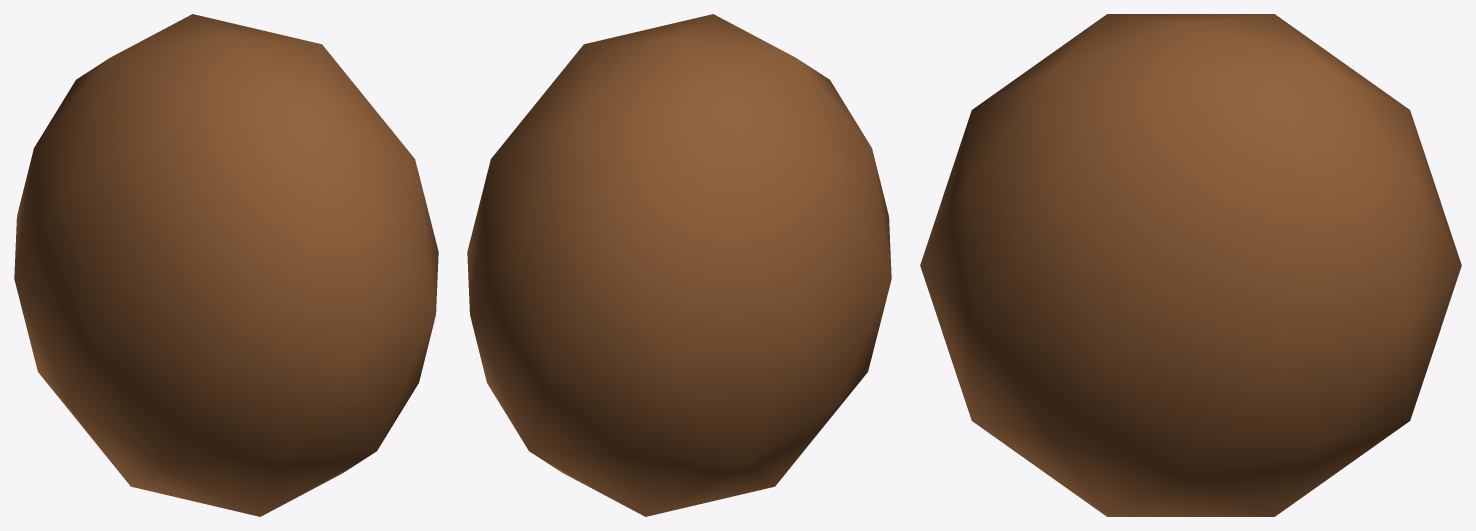
Rendered from Potatos.fbx.
3 views of the same model, side by side, from view 1: azimuth 30°, elevation 25°; view 2: azimuth 150°, elevation 25°; view 3: azimuth 270°, elevation 25° (orthographic). The views are drawn at different scales.
Parts seen in each view (by area): view 1: Icosphere; view 2: Icosphere; view 3: Icosphere.
Part boxes in pixels (x1,y1,x2,y2): Icosphere: (14, 14, 438, 516); Icosphere: (467, 14, 891, 516); Icosphere: (920, 14, 1461, 516).
Bounding box in the file's own units: 40.8 × 50.91 × 51.84.
